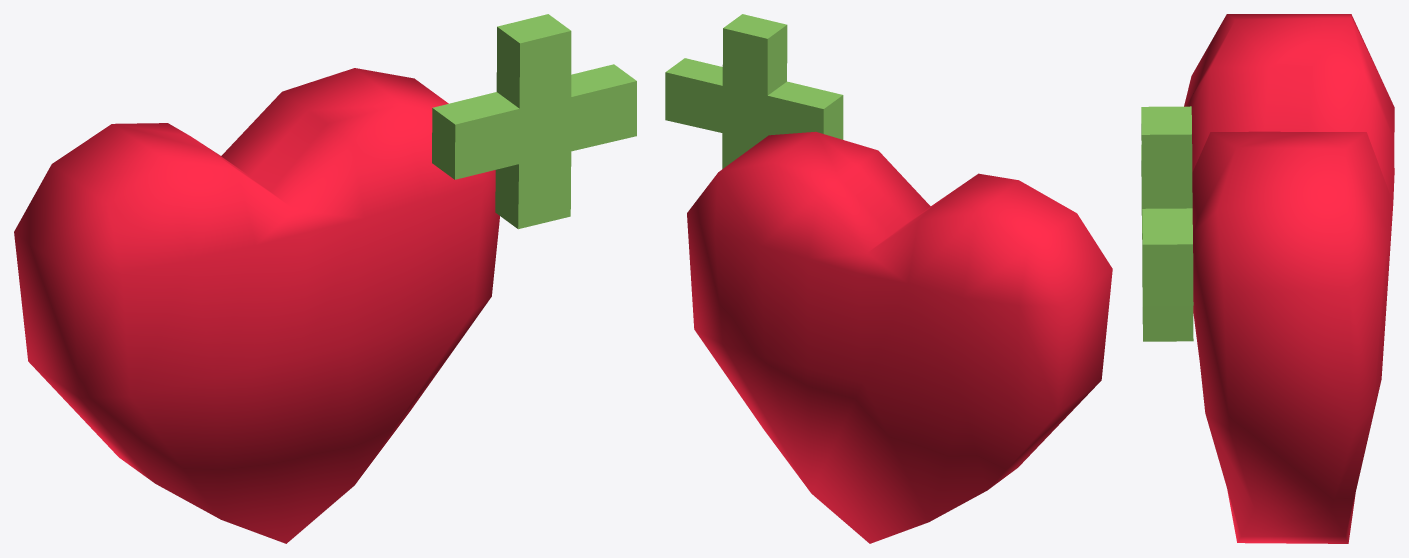
Rendered from 체력회복.FBX.
3 renders of one model, left to right at view 1: azimuth 30°, elevation 25°; view 2: azimuth 150°, elevation 25°; view 3: azimuth 270°, elevation 25°, orthographic. The views are drawn at different scales.
Visible parts, largest first — view 1: Box001, Line002; view 2: Box001, Line002; view 3: Box001, Line002.
Part boxes in pixels (left/top/right/bottom): Box001: left=14, top=68, right=499, bottom=543; Line002: left=432, top=14, right=636, bottom=229; Box001: left=687, top=131, right=1112, bottom=543; Line002: left=665, top=14, right=843, bottom=168; Box001: left=1184, top=14, right=1394, bottom=543; Line002: left=1141, top=106, right=1193, bottom=341.
Bounding box in the file's own units: 29.64 × 25.97 × 11.05.
Materials: 1 (1 with a texture image).
